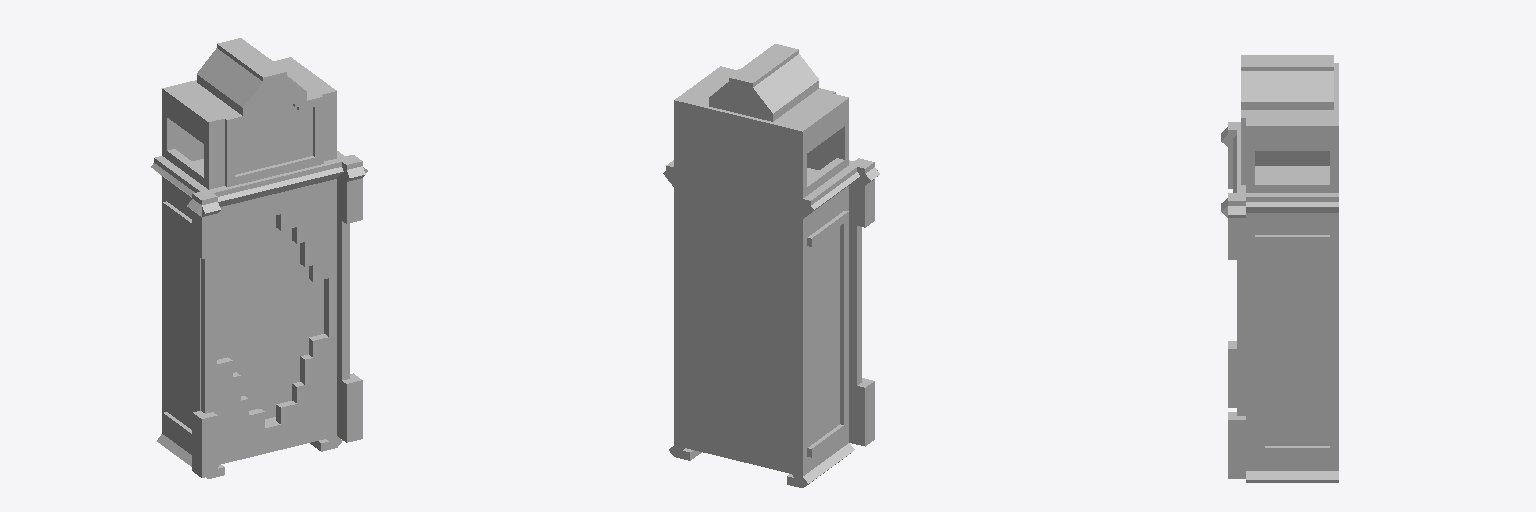
Rendered from 551_grandfather_clock.obj.
3 renders of one model, left to right at view 1: azimuth 30°, elevation 25°; view 2: azimuth 150°, elevation 25°; view 3: azimuth 270°, elevation 25°, orthographic.
Parts seen in each view (by area): view 1: Shape46$2, Shape7$2, Shape37, Shape61, Shape67, Shape48, Shape23, Shape83, Shape65, Shape66, Shape59, Shape25 (+26 smaller); view 2: Shape93, Shape25, Shape7$2, Shape23, Shape65, Shape47, Shape66, Shape34, Shape28, Shape64, Shape10, Shape24 (+5 smaller); view 3: Shape42$2, Shape21, Shape48, Shape93, Shape9, Shape58, Shape52, Shape34, Shape83, Shape59, Shape24, Shape36 (+13 smaller).
Boxes of the visible parts, <box> form: Shape46$2: <box>217,216,323,418</box>; Shape7$2: <box>167,214,194,429</box>; Shape37: <box>221,92,320,174</box>; Shape61: <box>218,413,328,464</box>; Shape67: <box>218,181,328,228</box>; Shape48: <box>325,179,336,435</box>; Shape23: <box>197,48,270,111</box>; Shape83: <box>337,217,349,379</box>; Shape65: <box>201,257,212,413</box>; Shape66: <box>192,411,217,477</box>; Shape59: <box>337,373,362,442</box>; Shape25: <box>162,57,294,160</box>; Shape93: <box>674,176,806,476</box>; Shape25: <box>674,97,806,206</box>; Shape7$2: <box>807,227,839,447</box>; Shape23: <box>745,54,818,114</box>; Shape65: <box>849,224,861,385</box>; Shape47: <box>840,220,848,424</box>; Shape66: <box>849,378,874,446</box>; Shape34: <box>729,44,798,91</box>; Shape28: <box>687,72,835,125</box>; Shape64: <box>849,158,874,227</box>; Shape10: <box>800,99,844,152</box>; Shape24: <box>674,168,818,215</box>; Shape42$2: <box>1265,246,1329,445</box>; Shape21: <box>1241,71,1333,101</box>; Shape48: <box>1246,213,1254,470</box>; Shape93: <box>1330,213,1338,470</box>; Shape9: <box>1255,122,1329,150</box>; Shape58: <box>1255,246,1264,447</box>; Shape52: <box>1255,213,1329,234</box>; Shape34: <box>1241,55,1333,70</box>; Shape83: <box>1237,260,1245,415</box>; Shape59: <box>1228,412,1245,478</box>; Shape24: <box>1255,166,1329,180</box>; Shape36: <box>1255,456,1329,470</box>.
Bounding box in the file's own units: 1.34 × 2.9 × 0.7942.